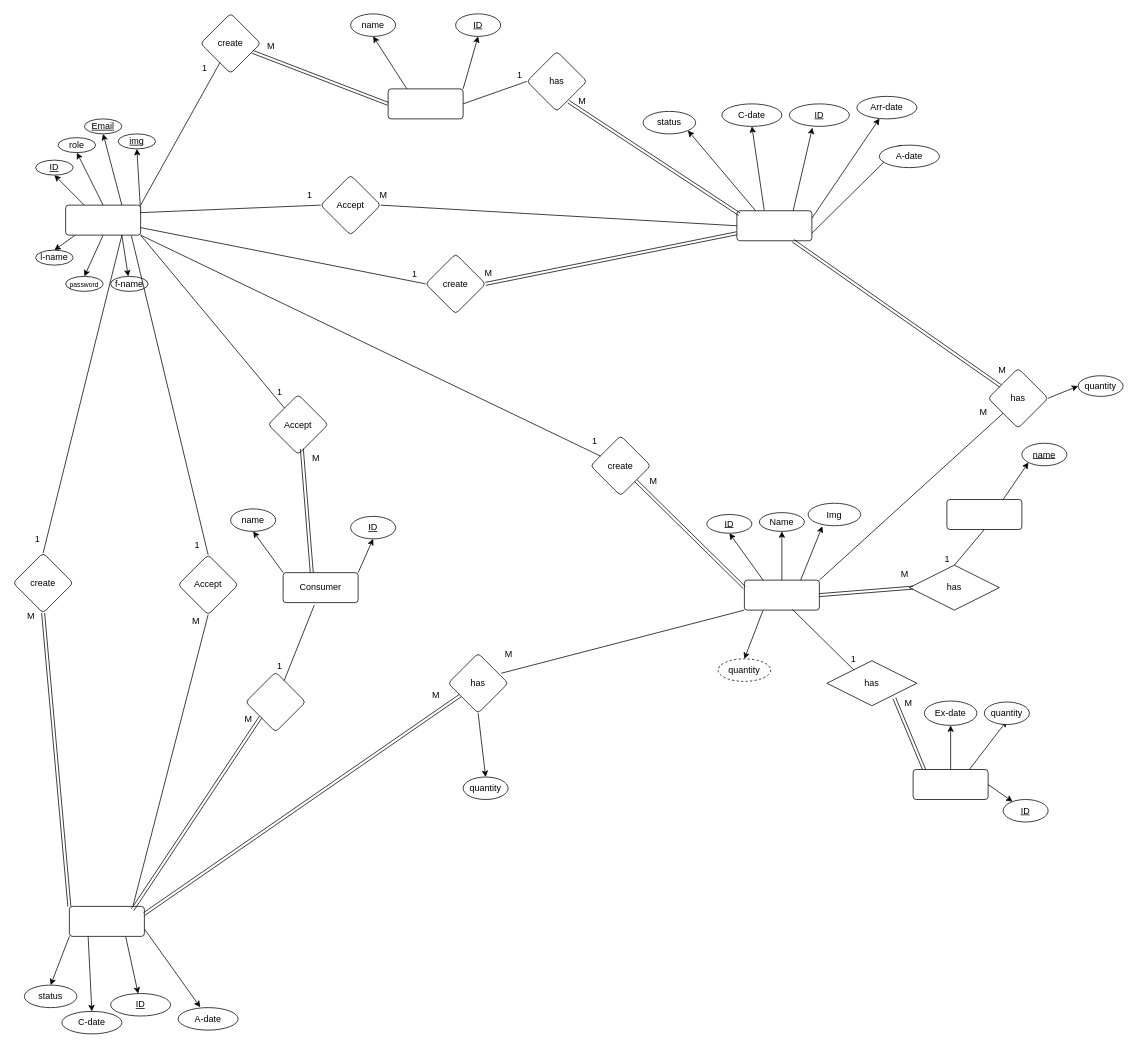
This 1136x1047 diagram has some shape labels left out. The shapes that lost their labels are listed below. From the top down, each one's centre as x and y in pixels, then its label:
At point 425,103: "Provider".
At point 103,219: "Account".
At point 774,225: "Shipment".
At point 984,514: "Category".
At point 781,594: "Product".
At point 275,701: "consume".
At point 950,784: "Product Details".
At point 106,921: "Order".
